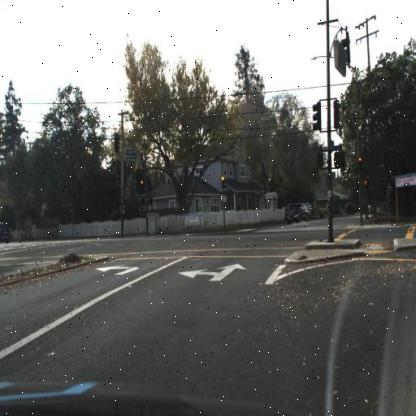car: (286, 202, 310, 225)
trafficLight: (220, 172, 224, 190)
trafficLight-Red: (140, 178, 144, 188)
